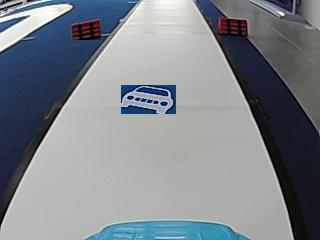bomb: (217, 17, 249, 35)
